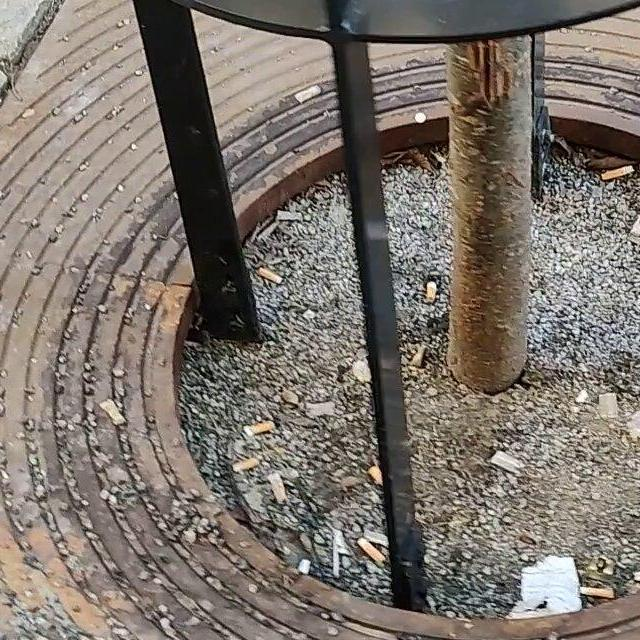Cigarette Butt: (360, 539, 384, 569), (600, 166, 634, 184), (269, 471, 290, 498), (245, 421, 276, 438), (578, 584, 612, 599), (370, 458, 384, 488), (234, 457, 257, 474), (424, 281, 436, 305), (262, 270, 284, 281), (0, 98, 5, 128), (630, 569, 640, 583), (632, 568, 640, 580)
